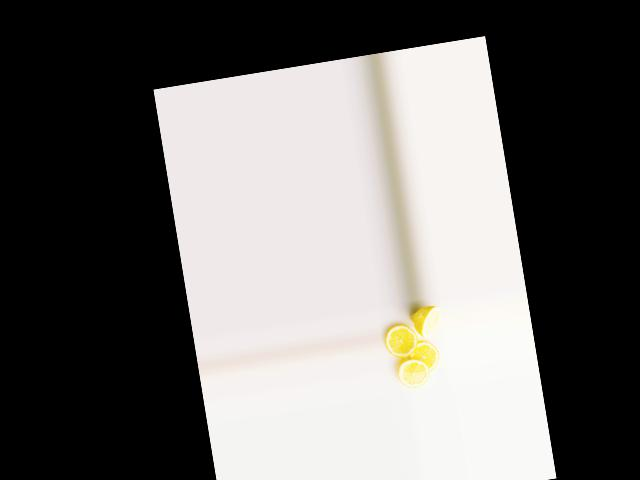lemon: (412, 302, 445, 339)
